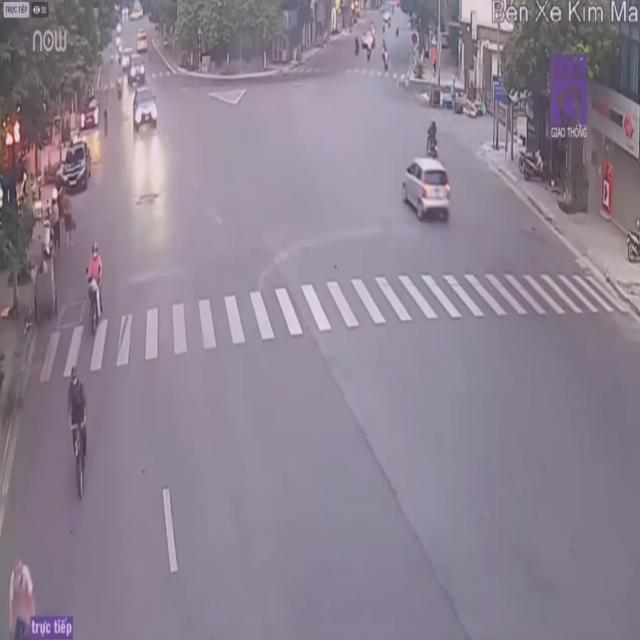car: (402, 159, 454, 229)
motorbike: (82, 242, 105, 332), (423, 116, 440, 160)
